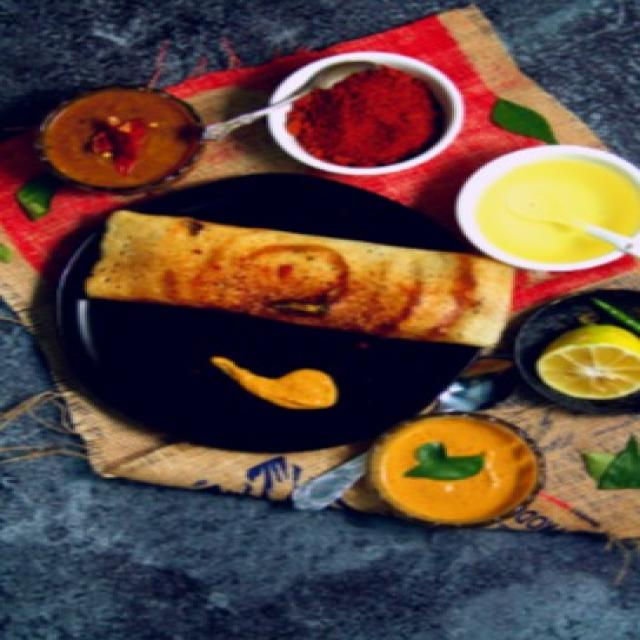DOSA: (85, 211, 513, 346)
PODI: (287, 69, 440, 165)
RED CHUTNEY: (365, 415, 539, 522)
SAMBAR: (40, 89, 200, 187)
SWEET: (454, 145, 638, 272)
